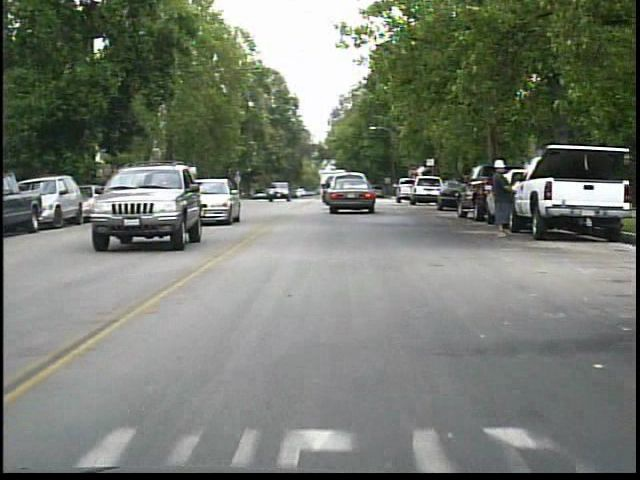person: (488, 155, 519, 240)
